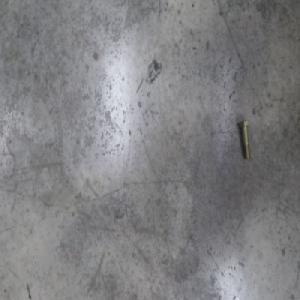Bolt: (238, 118, 251, 160)
